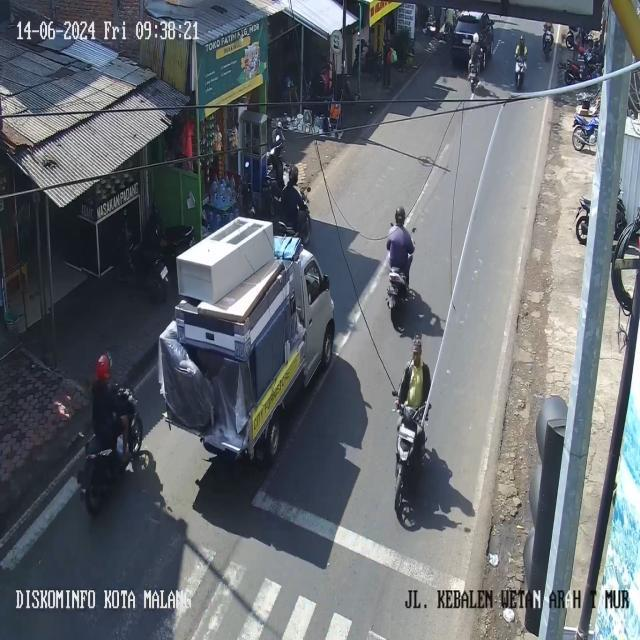Helmet: (95, 353, 111, 380), (288, 165, 299, 186), (395, 207, 406, 225), (413, 335, 421, 352), (473, 33, 478, 43), (519, 35, 524, 44)
Number Plate: (161, 266, 167, 278), (462, 38, 471, 44)
Rearview Mirror: (322, 275, 329, 290), (392, 390, 397, 396), (306, 186, 310, 192), (411, 227, 415, 232)
